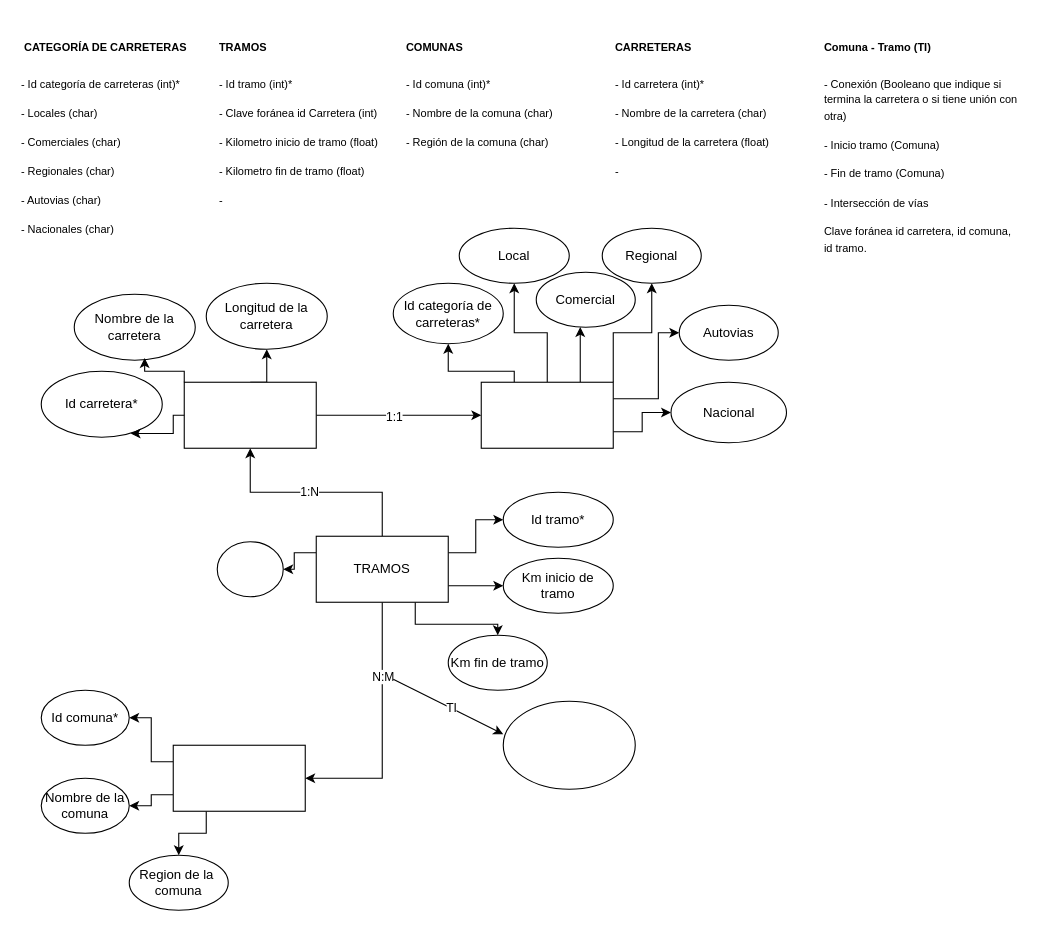
The diagram is 1038 pixels wide and 930 high, and some of its shapes have lost their labels. Here are the shapes that lost their labels. From the top down, the box of each, then its label:
(183, 381, 316, 448): CARRETERAS
(480, 381, 613, 448): CATEGORÍAS DE CARRETERAS
(216, 541, 283, 597): Cf carreteras
(502, 700, 635, 789): TRAMO-COMUNA
(172, 744, 305, 811): COMUNAS
